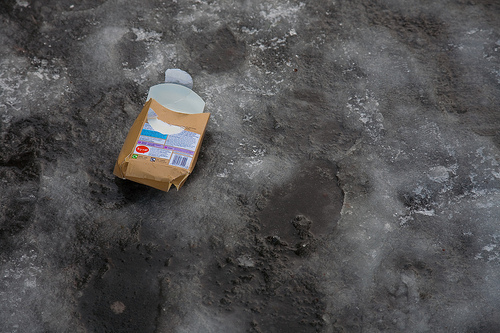litter: (115, 67, 210, 193)
